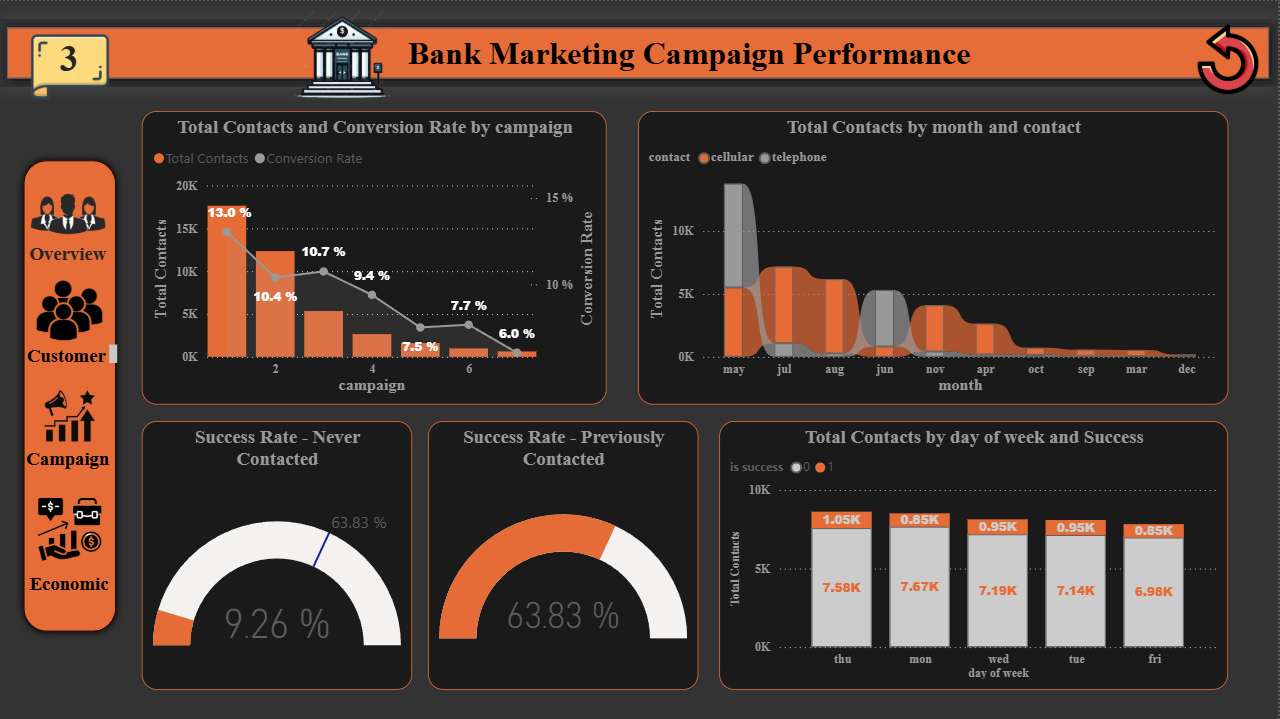

What the dashboard file says about the page in this screenshot:
{"tool":"powerbi","page":{"name":"Campaign","canvas":[1280,720],"ordinal":2},"visuals":[{"type":"group","id":"g1","title":"Group 1","box":[0,0,1280,141.2],"z":0},{"type":"shape","box":[16.9,150.8,108.6,487.4],"z":0,"group":"g2"},{"type":"lineClusteredColumnComboChart","fields":{"Category":["DimCampaign.campaign"],"Y":["BM-Measures.Total Contacts"],"Y2":["BM-Measures.Conversion Rate"]},"box":[143.8,110,465,293.8],"z":1000},{"type":"textbox","box":[21.4,237.2,97.1,41.4],"z":1000,"group":"g2"},{"type":"shape","box":[0,18.1,1280,68.8],"z":1500,"group":"g1"},{"type":"image","box":[0,0,143.6,141.2],"z":2000,"group":"g1"},{"type":"image","box":[21.7,166.5,97.7,94.1],"z":2000,"group":"g2"},{"type":"columnChart","title":"Total Contacts by day of week and Success","fields":{"Category":["DimDate.day_of_week"],"Y":["BM-Measures.Total Contacts"],"Series":["FactBankMarketing.is_success"]},"box":[721.2,420,508.8,268.8],"z":2000},{"type":"textbox","box":[35,31.4,72.4,55.5],"z":2500,"group":"g1"},{"type":"image","box":[290.8,0,106.2,109.8],"z":3000,"group":"g1"},{"type":"ribbonChart","fields":{"Category":["DimDate.month"],"Series":["DimContact.contact"],"Y":["BM-Measures.Total Contacts"]},"box":[640,110,590,293.8],"z":3000},{"type":"image","box":[7.2,265.9,127.9,85.7],"z":3000,"group":"g2"},{"type":"textbox","box":[405.4,29,589.9,49.5],"z":3500,"group":"g1"},{"type":"image","box":[1179.9,19.3,100.1,79.6],"z":4000,"group":"g1"},{"type":"textbox","box":[20,338.6,104.3,30],"z":4000,"group":"g2"},{"type":"gauge","title":"Success Rate - Never Contacted","fields":{"Y":["BM-Measures.Success Rate - Never Contacted"],"TargetValue":["BM-Measures.Success Rate - Previously Contacted"]},"box":[143.8,420,270,268.8],"z":4000},{"type":"image","box":[0,351.6,143.6,115.8],"z":5000,"group":"g2"},{"type":"gauge","fields":{"Y":["BM-Measures.Success Rate - Previously Contacted"]},"box":[430,420,270,268.8],"z":5000},{"type":"group","id":"g2","title":"Group 2","box":[0,150.8,143.6,487.4],"z":6000},{"type":"textbox","box":[15.7,441.5,107.1,35.7],"z":6000,"group":"g2"},{"type":"textbox","box":[22.9,567.2,97.1,40],"z":7000,"group":"g2"},{"type":"image","box":[33.8,490.3,76,79.6],"z":8000,"group":"g2"}]}

Visuals, with their boxes in screenshot pixels (x1, y1, x2, y2), scaled from the page's 1280x720 canvas onto the 1280x719 screenshot:
"Group 1" group: <bbox>0, 0, 1279, 141</bbox>
shape: <bbox>17, 151, 126, 637</bbox>
lineClusteredColumnComboChart - DimCampaign.campaign x BM-Measures.Total Contacts: <bbox>144, 110, 609, 403</bbox>
textbox: <bbox>21, 237, 118, 278</bbox>
shape: <bbox>0, 18, 1279, 87</bbox>
image: <bbox>0, 0, 144, 141</bbox>
image: <bbox>22, 166, 119, 260</bbox>
"Total Contacts by day of week and Success" columnChart: <bbox>721, 419, 1230, 688</bbox>
textbox: <bbox>35, 31, 107, 87</bbox>
image: <bbox>291, 0, 397, 110</bbox>
ribbonChart - DimDate.month x DimContact.contact: <bbox>640, 110, 1230, 403</bbox>
image: <bbox>7, 266, 135, 351</bbox>
textbox: <bbox>405, 29, 995, 78</bbox>
image: <bbox>1180, 19, 1279, 99</bbox>
textbox: <bbox>20, 338, 124, 368</bbox>
"Success Rate - Never Contacted" gauge: <bbox>144, 419, 414, 688</bbox>
image: <bbox>0, 351, 144, 467</bbox>
gauge - BM-Measures.Success Rate - Previously Contacted: <bbox>430, 419, 700, 688</bbox>
"Group 2" group: <bbox>0, 151, 144, 637</bbox>
textbox: <bbox>16, 441, 123, 477</bbox>
textbox: <bbox>23, 566, 120, 606</bbox>
image: <bbox>34, 490, 110, 569</bbox>
